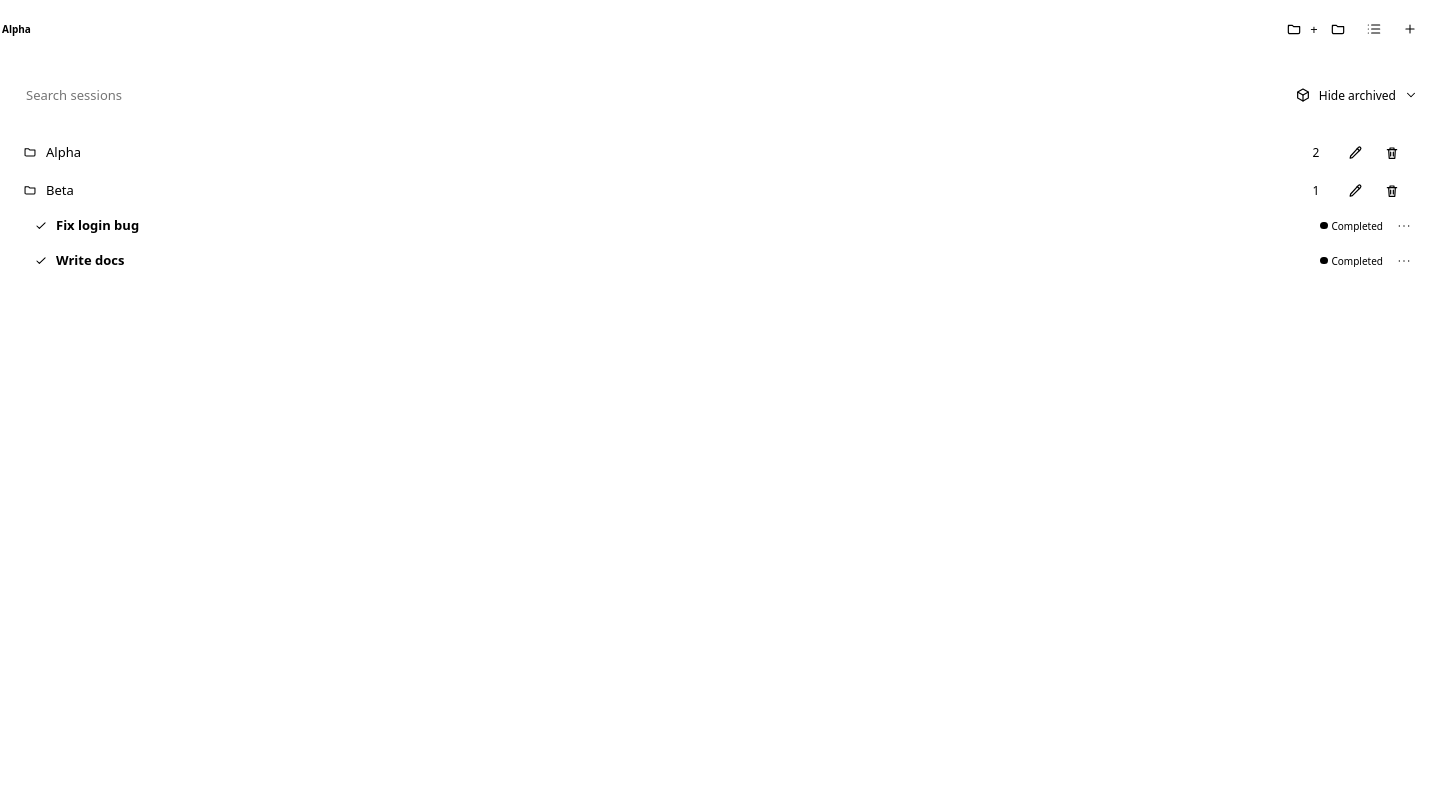
Test: SessionDrawer › opens a session rename dialog, warns about a duplicate, and saves the edited title
The image size is (1440, 810).
Click the button named "Session actions for Fix login bug" at (1404, 226), box [1391,212,1417,240]
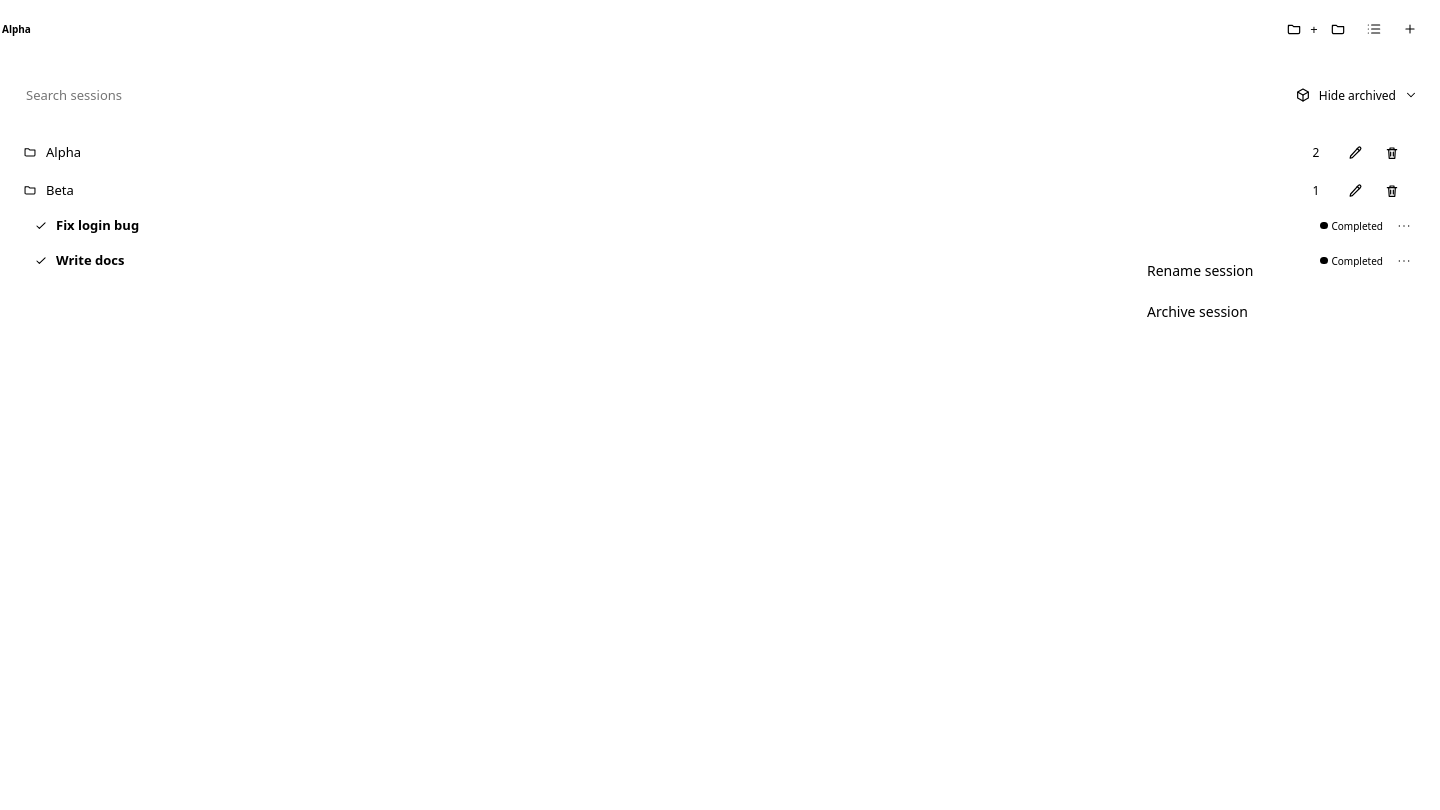
Click the button "Rename session" at (1200, 270), box [1134,253,1412,290]
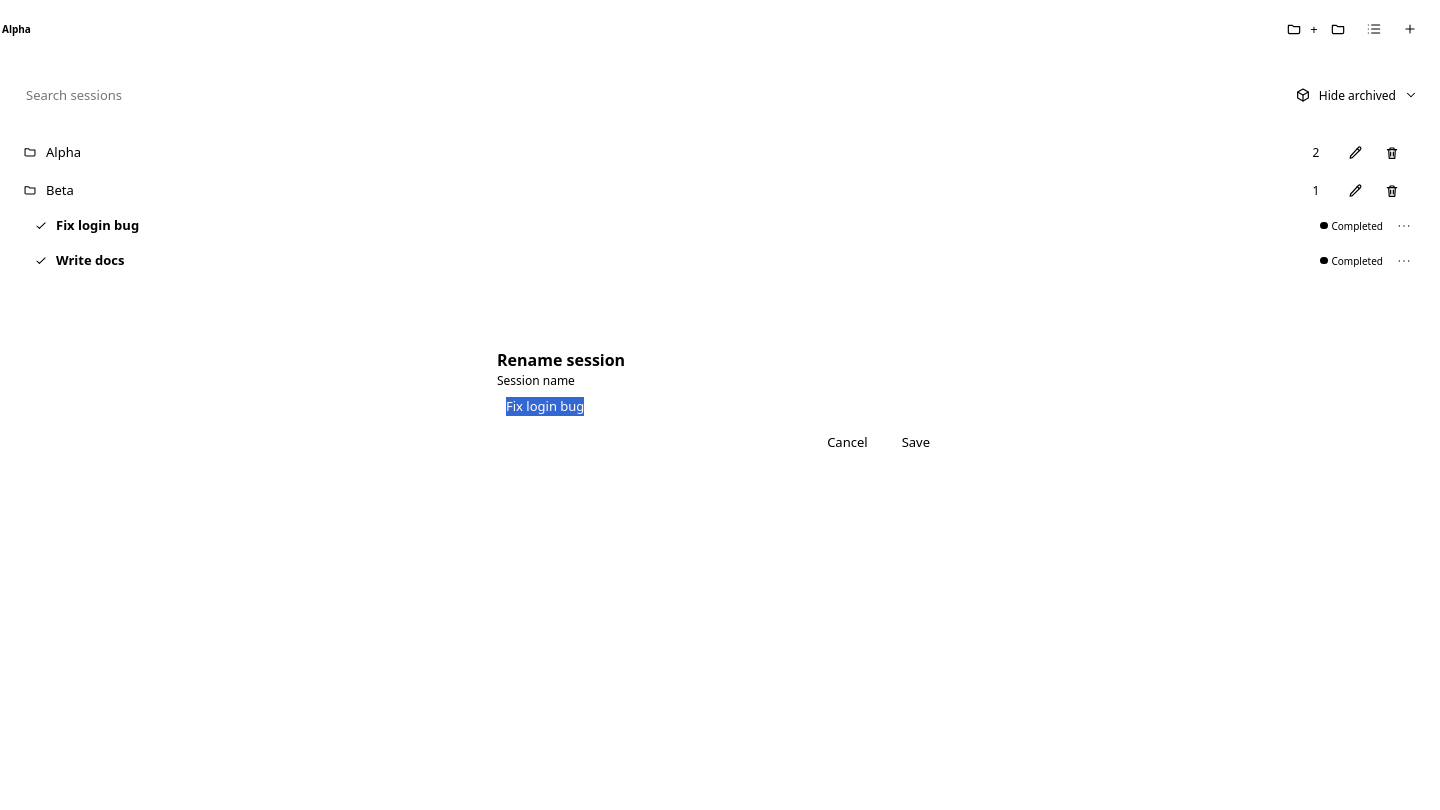
Replace the text in the field labelled "Session name" with "Write docs" at (720, 407), box [497,389,943,424]
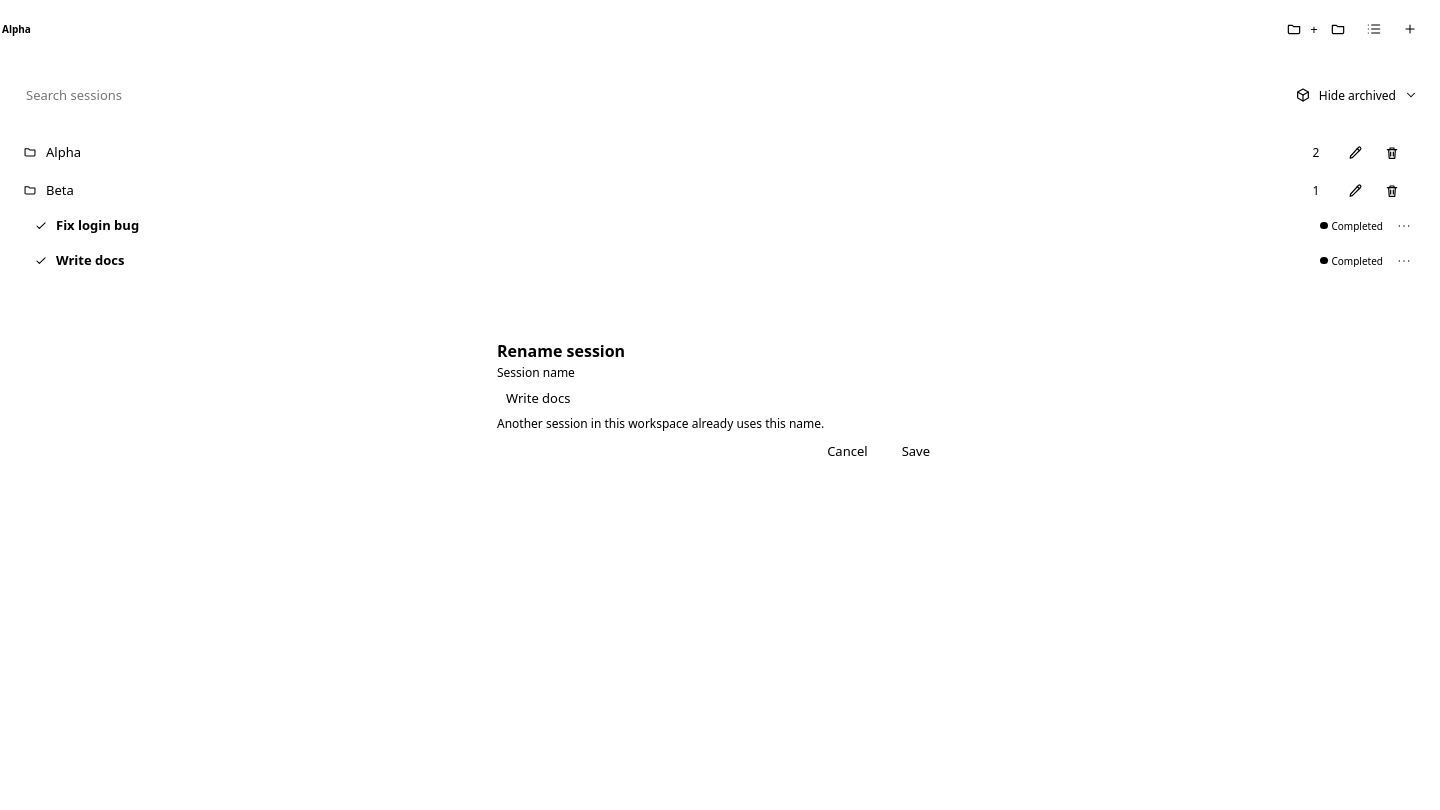
Expected: the text "Another session in this workspace already uses this name." is shown, [497,415,824,432]
Replace the text in the field labelled "Session name" with "Rename me" at (720, 398), box [497,381,943,416]
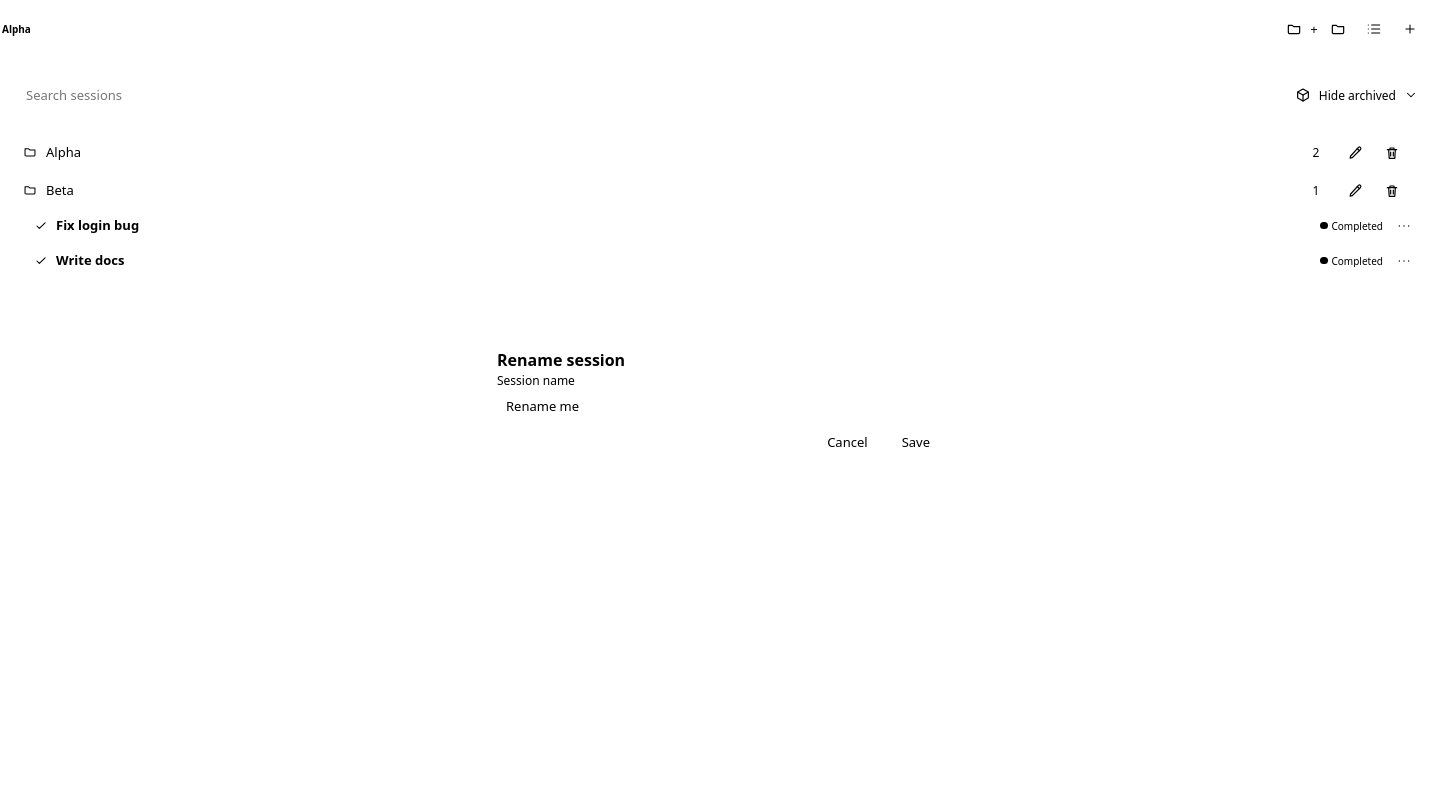
Click the button "Save" at (916, 443), box [889,424,943,461]
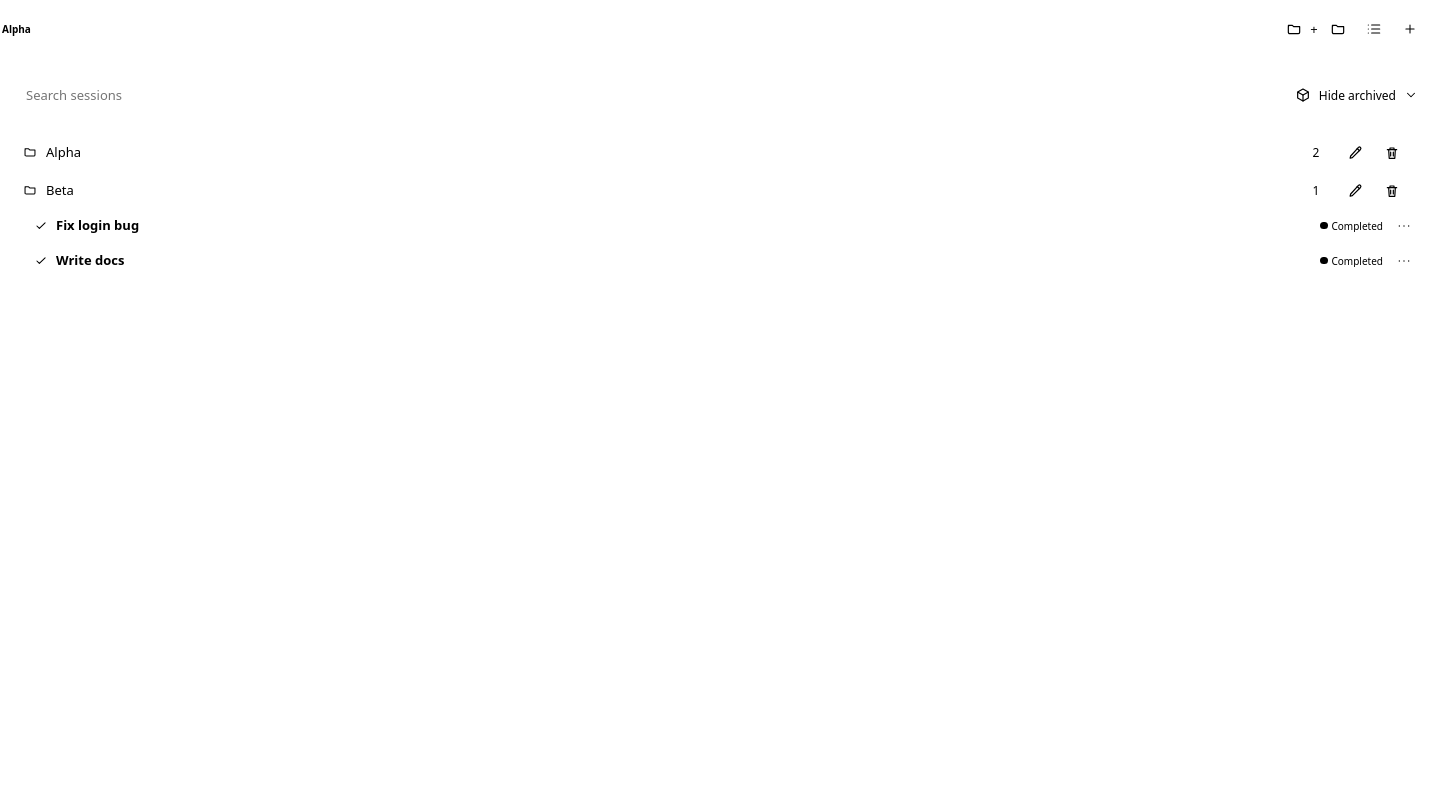
Expected: the heading "Rename session" is gone
